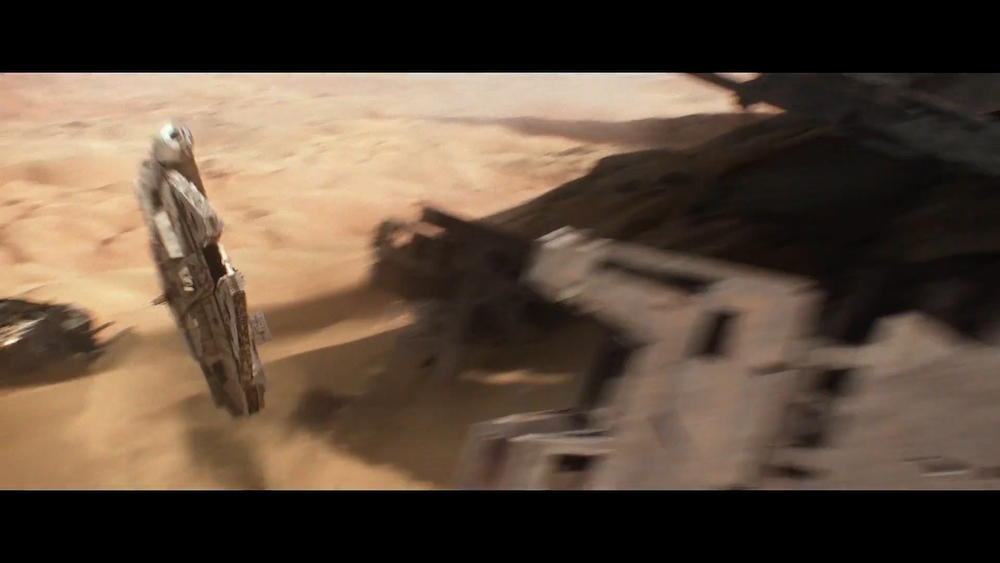Millennium Falcon: (135, 122, 273, 422)
